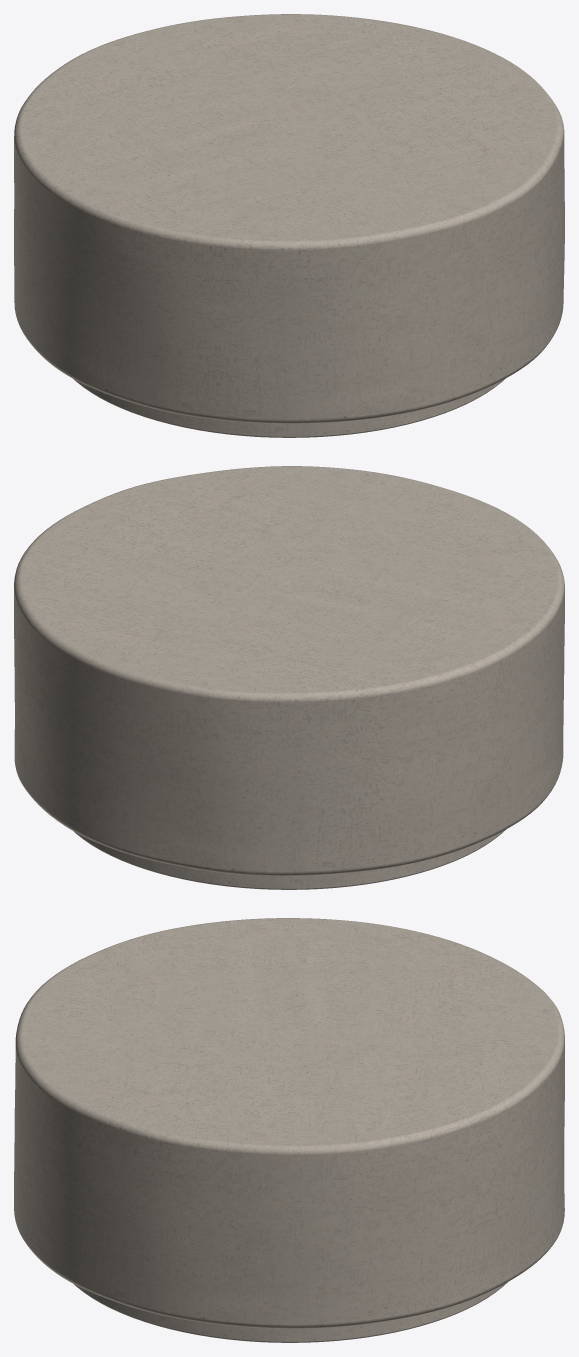
File: coffee-table-round.gltf
3 views of the same model, one above another, from view 1: azimuth 30°, elevation 25°; view 2: azimuth 150°, elevation 25°; view 3: azimuth 270°, elevation 25° (orthographic).
Parts seen in each view (by area): view 1: coffee-table-round; view 2: coffee-table-round; view 3: coffee-table-round.
Part boxes in pixels (x1,y1,x2,y2): coffee-table-round: (14,14,564,437); coffee-table-round: (14,466,564,889); coffee-table-round: (14,918,564,1342).
Bounding box in the file's own units: 0.9013 × 0.38 × 0.9005.
1 material, 1 textured.
